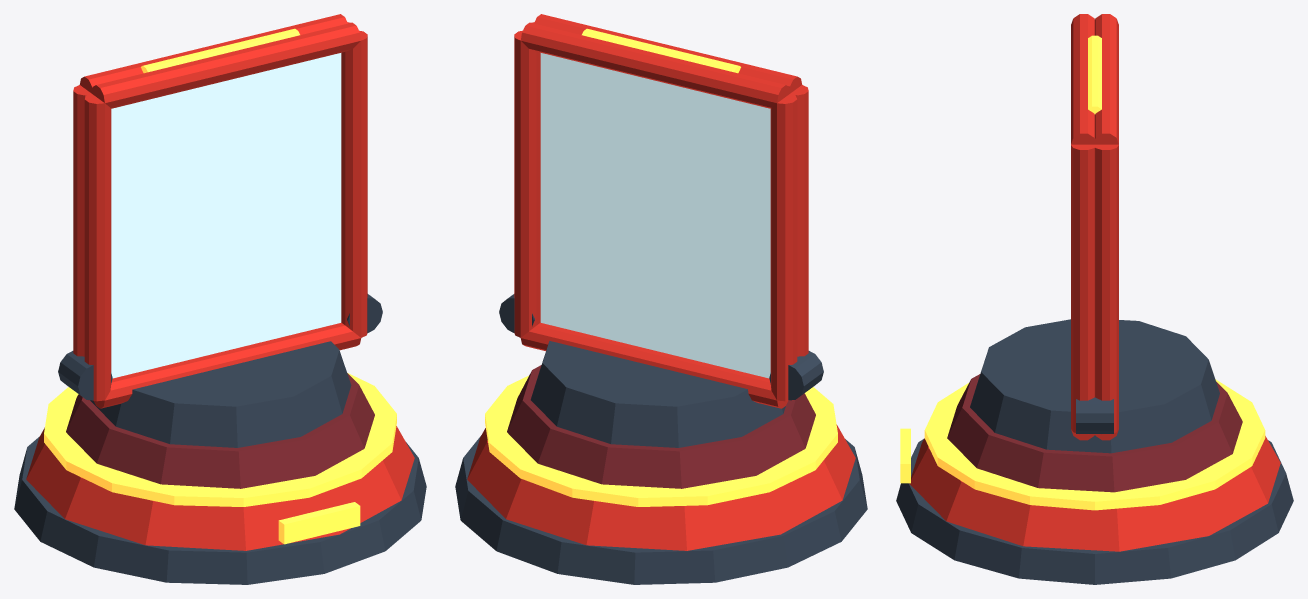
The model's file is double_mirror_red.glb.
3 renders of one model, left to right at view 1: azimuth 30°, elevation 25°; view 2: azimuth 150°, elevation 25°; view 3: azimuth 270°, elevation 25°, orthographic. The views are drawn at different scales.
Visible parts, largest first — view 1: double_mirror_red_Mirror_Back, double_mirror_red_Back_Frame, double_mirror_red_Splitter_Cradle, double_mirror_red_Base_Lower, double_mirror_red_Base_Armor, double_mirror_red_Base_Deck, double_mirror_red_Base_Light_Ring, double_mirror_red_Front_Frame, double_mirror_red_Status_Light, double_mirror_red_Top_Status_Line, double_mirror_red_Left_Hinge; view 2: double_mirror_red_Mirror_Front, double_mirror_red_Front_Frame, double_mirror_red_Base_Armor, double_mirror_red_Splitter_Cradle, double_mirror_red_Base_Lower, double_mirror_red_Base_Deck, double_mirror_red_Base_Light_Ring, double_mirror_red_Back_Frame, double_mirror_red_Top_Status_Line, double_mirror_red_Left_Hinge; view 3: double_mirror_red_Splitter_Cradle, double_mirror_red_Base_Armor, double_mirror_red_Base_Lower, double_mirror_red_Base_Deck, double_mirror_red_Base_Light_Ring, double_mirror_red_Front_Frame, double_mirror_red_Back_Frame, double_mirror_red_Right_Hinge, double_mirror_red_Top_Status_Line, double_mirror_red_Status_Light.
Boxes of the visible parts, left/top/right/bottom form: double_mirror_red_Mirror_Back: left=111, top=53, right=341, bottom=378; double_mirror_red_Back_Frame: left=84, top=22, right=367, bottom=408; double_mirror_red_Splitter_Cradle: left=90, top=341, right=351, bottom=447; double_mirror_red_Base_Lower: left=14, top=436, right=426, bottom=584; double_mirror_red_Base_Armor: left=26, top=426, right=414, bottom=550; double_mirror_red_Base_Deck: left=66, top=373, right=374, bottom=488; double_mirror_red_Base_Light_Ring: left=44, top=373, right=396, bottom=506; double_mirror_red_Front_Frame: left=73, top=14, right=350, bottom=400; double_mirror_red_Status_Light: left=278, top=502, right=360, bottom=544; double_mirror_red_Top_Status_Line: left=141, top=28, right=299, bottom=73; double_mirror_red_Left_Hinge: left=58, top=351, right=112, bottom=400; double_mirror_red_Mirror_Front: left=540, top=53, right=770, bottom=378; double_mirror_red_Front_Frame: left=514, top=22, right=797, bottom=408; double_mirror_red_Base_Armor: left=467, top=424, right=855, bottom=550; double_mirror_red_Splitter_Cradle: left=530, top=341, right=785, bottom=447; double_mirror_red_Base_Lower: left=455, top=435, right=867, bottom=584; double_mirror_red_Base_Deck: left=507, top=365, right=815, bottom=488; double_mirror_red_Base_Light_Ring: left=485, top=375, right=837, bottom=506; double_mirror_red_Back_Frame: left=531, top=14, right=808, bottom=400; double_mirror_red_Top_Status_Line: left=582, top=28, right=740, bottom=73; double_mirror_red_Left_Hinge: left=769, top=351, right=823, bottom=400; double_mirror_red_Splitter_Cradle: left=970, top=319, right=1219, bottom=453; double_mirror_red_Base_Armor: left=909, top=436, right=1280, bottom=551; double_mirror_red_Base_Lower: left=896, top=439, right=1293, bottom=584; double_mirror_red_Base_Deck: left=947, top=374, right=1242, bottom=492; double_mirror_red_Base_Light_Ring: left=924, top=379, right=1265, bottom=510; double_mirror_red_Front_Frame: left=1093, top=14, right=1118, bottom=440; double_mirror_red_Back_Frame: left=1071, top=14, right=1096, bottom=440; double_mirror_red_Right_Hinge: left=1076, top=397, right=1113, bottom=433; double_mirror_red_Top_Status_Line: left=1088, top=35, right=1101, bottom=114; double_mirror_red_Status_Light: left=900, top=428, right=910, bottom=483.
Bounding box in the file's own units: 1.04 × 1.24 × 1.04.
